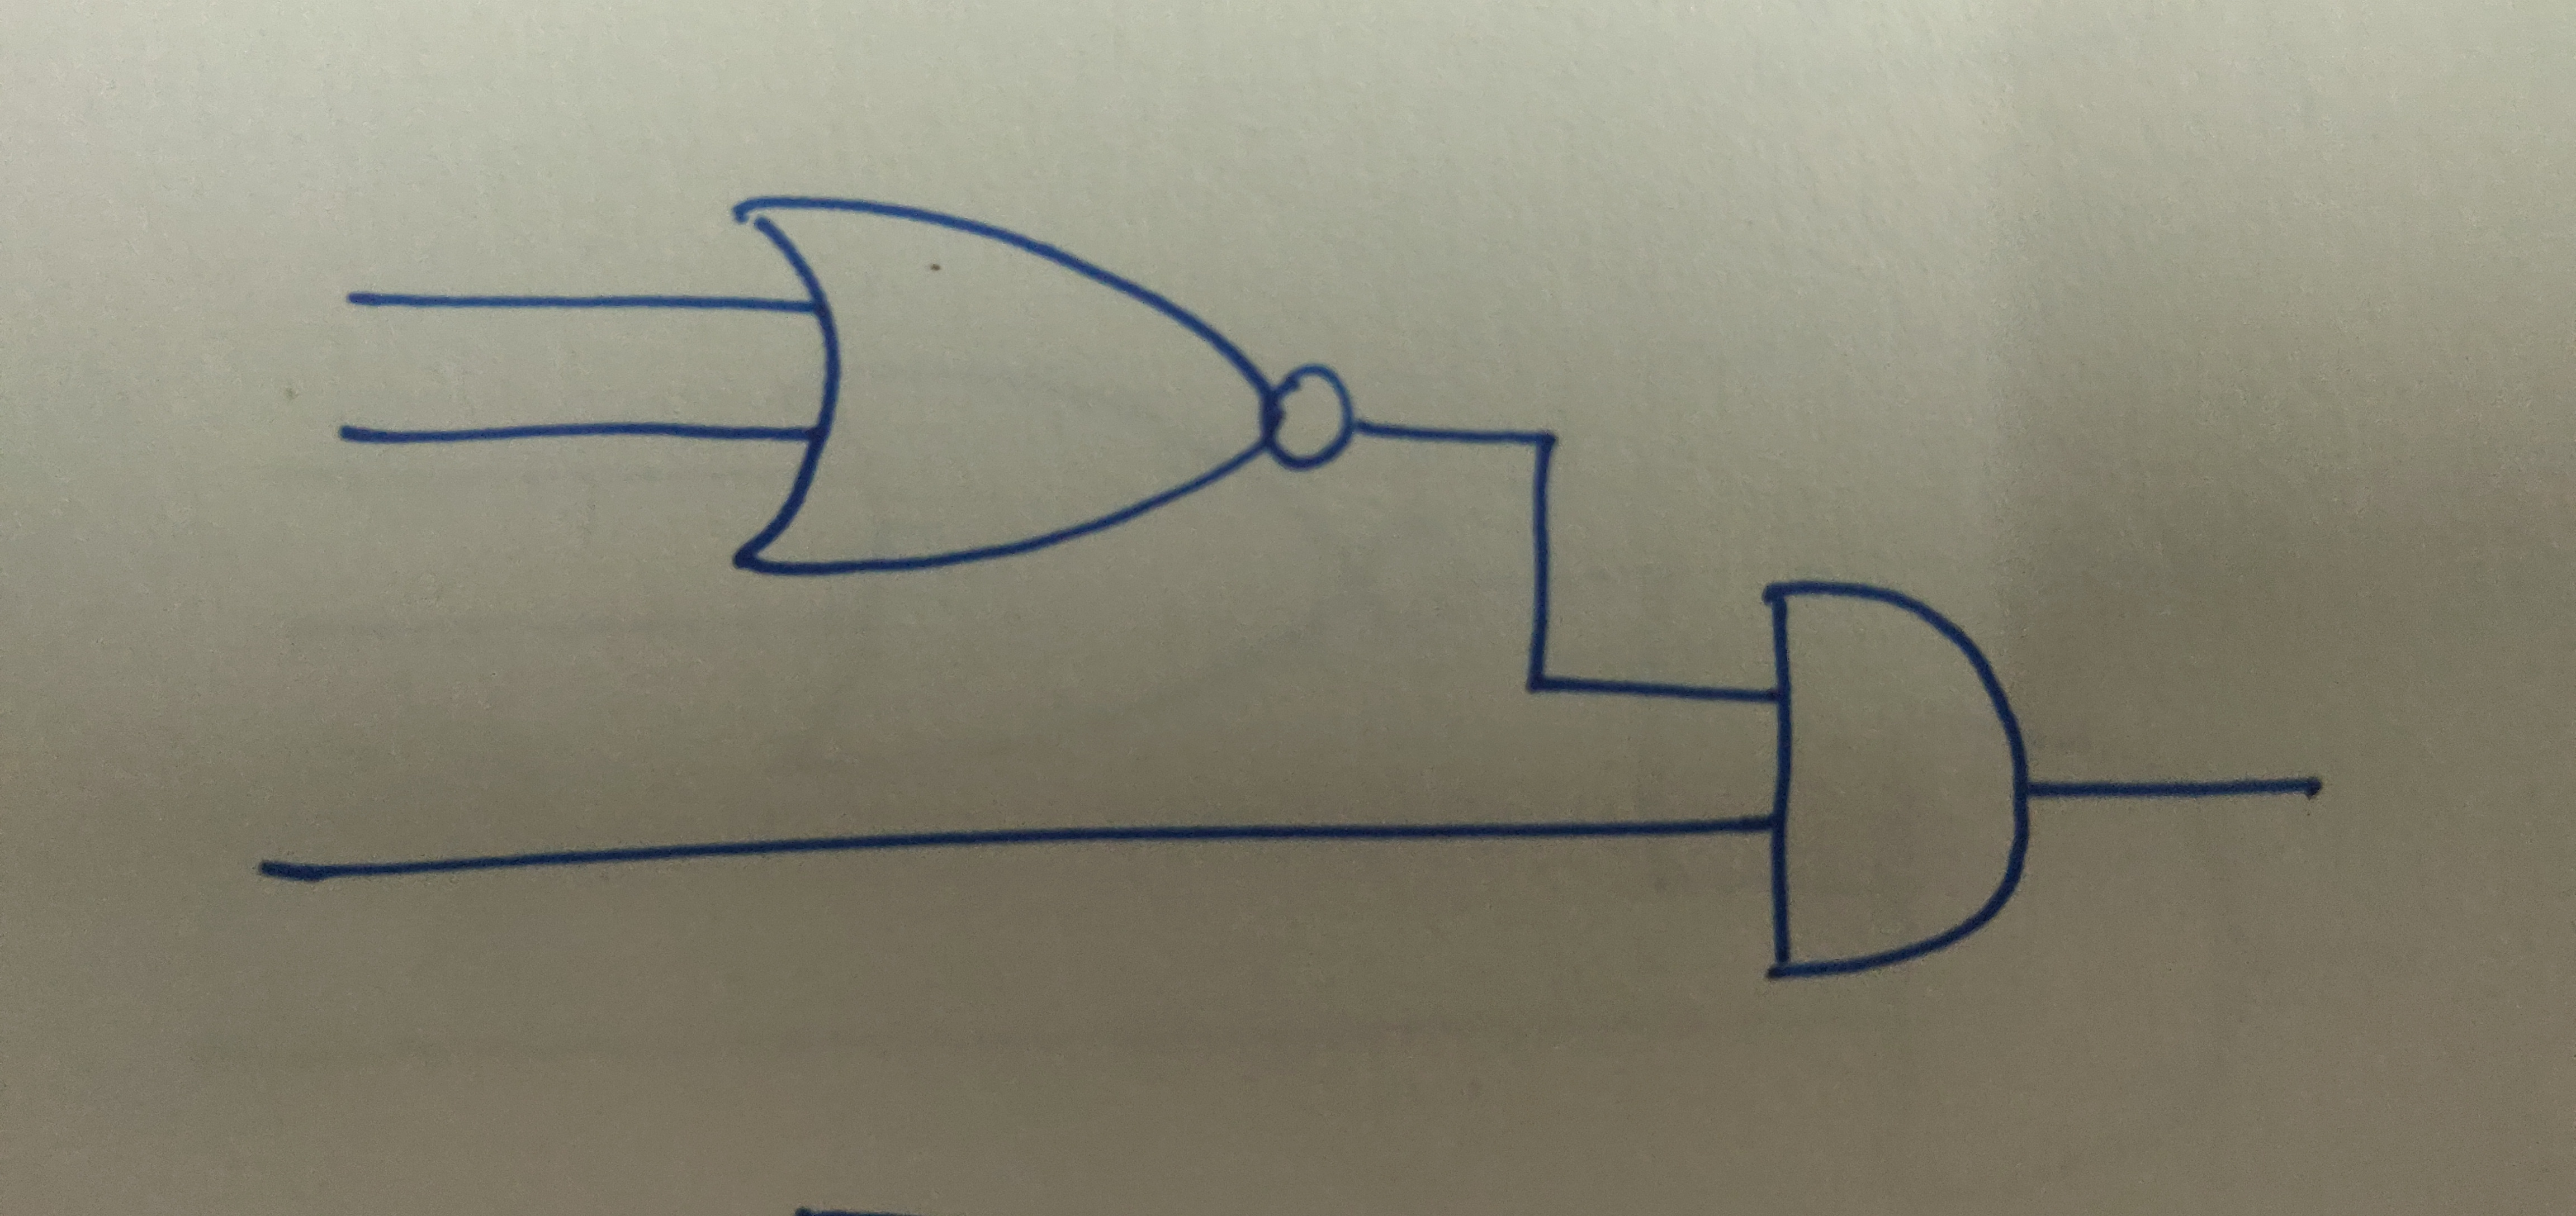and: (1758, 578, 2034, 979)
not: (1265, 355, 1364, 477)
or: (726, 194, 1278, 578)
